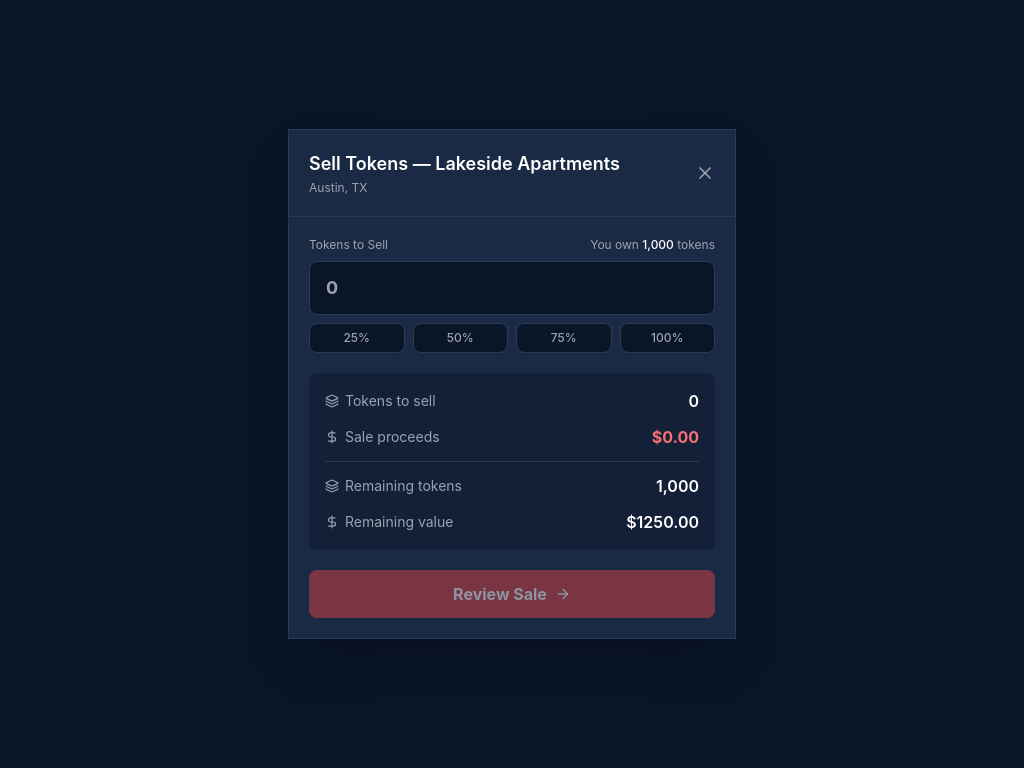
Test: SellModal › Step 1 — tokens › advances to review step when Review Sale is clicked
The width and height of the screenshot is (1024, 768).
Click the button "50%": click(460, 338) [412,323,508,353]
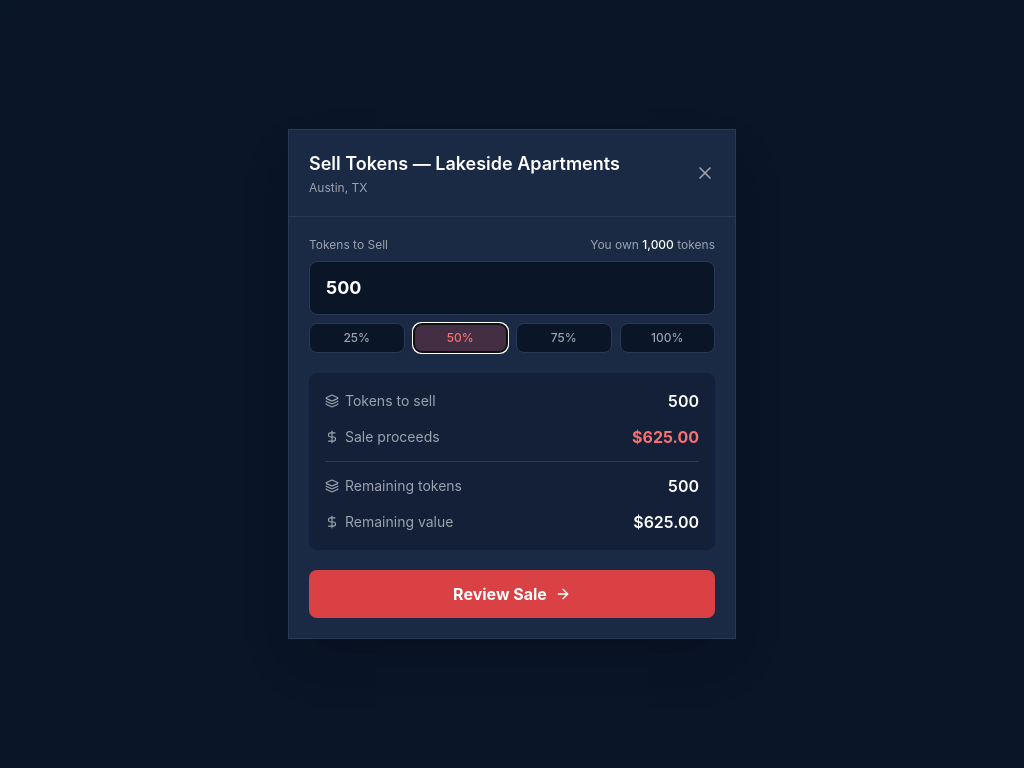
Click the button "Review Sale": click(512, 594) [309,570,715,618]
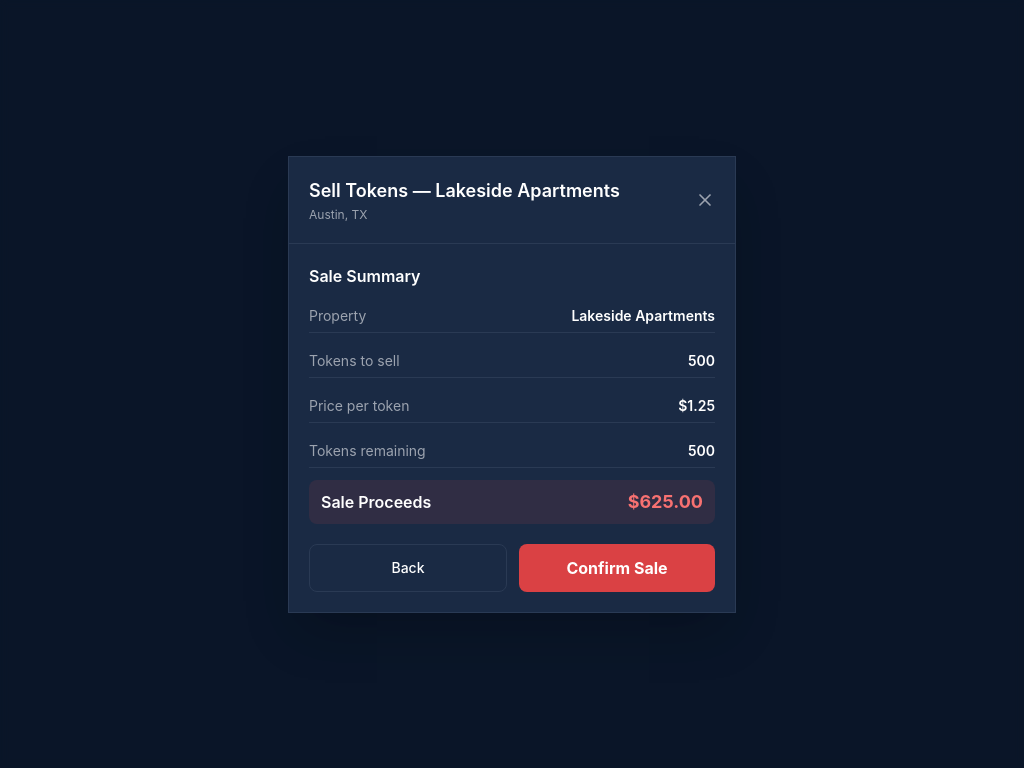
Expected: the heading "Sale Summary" is shown, [309,266,420,286]
